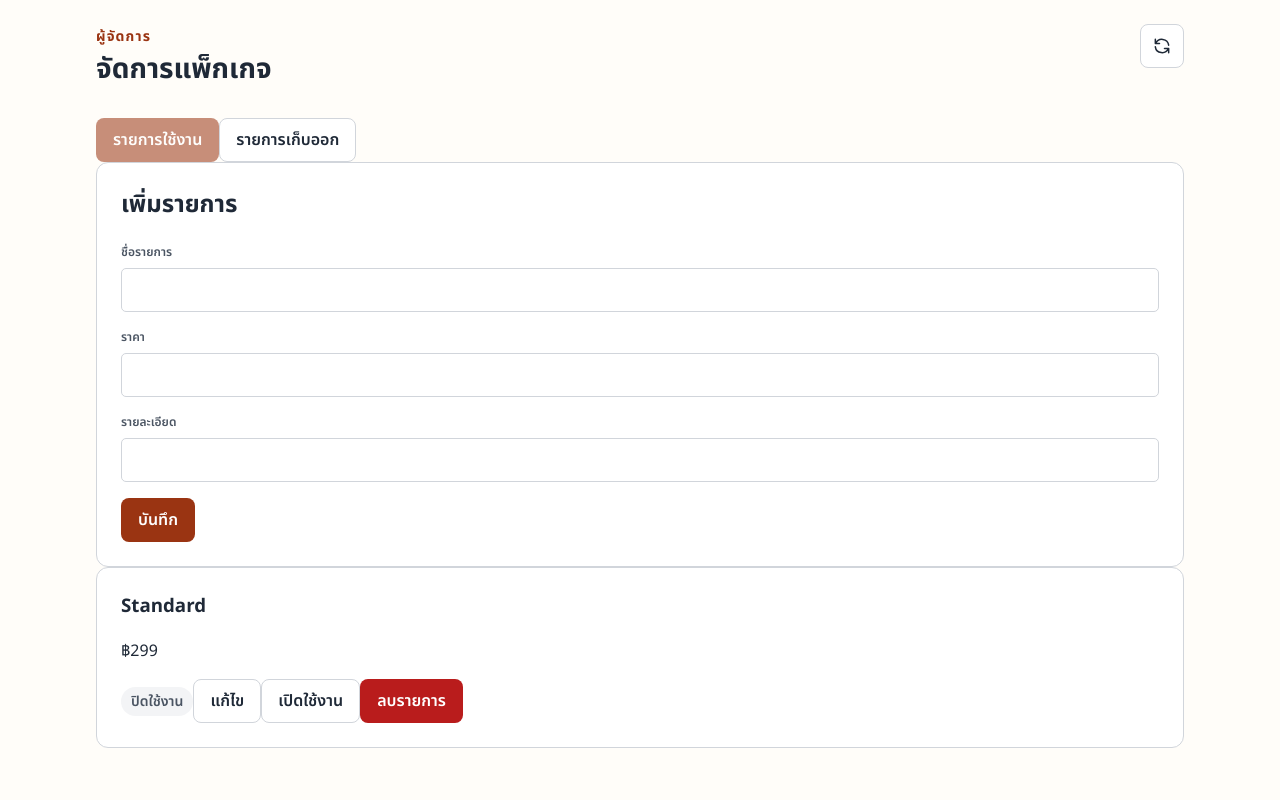
it: requires confirmation to reactivate a package and prevents duplicate actions
The image size is (1280, 800).
Expected: the heading "Standard" is shown, x1=121 y1=592 x2=206 y2=620
Click the button "เปิดใช้งาน" at (311, 701), box x1=261 y1=679 x2=360 y2=723
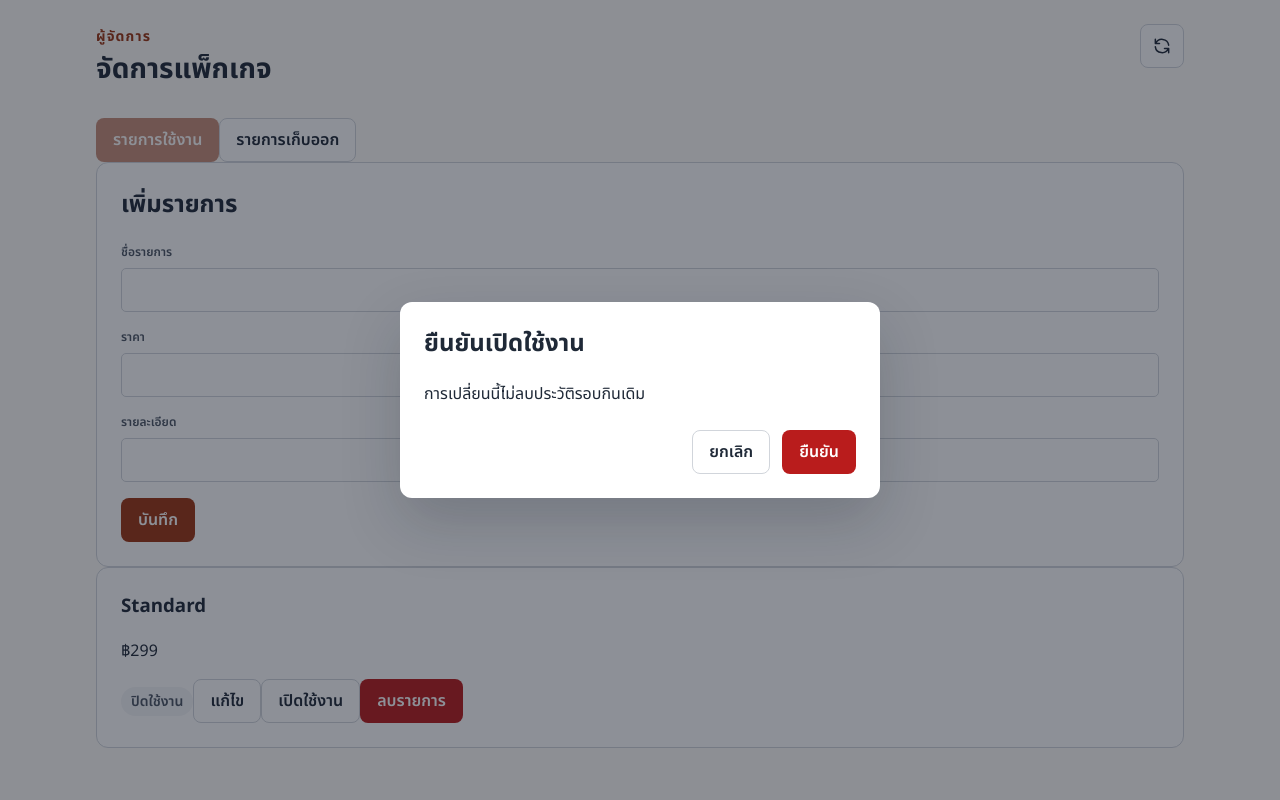
Click the button "ยืนยัน" at (819, 452), box x1=782 y1=430 x2=856 y2=474
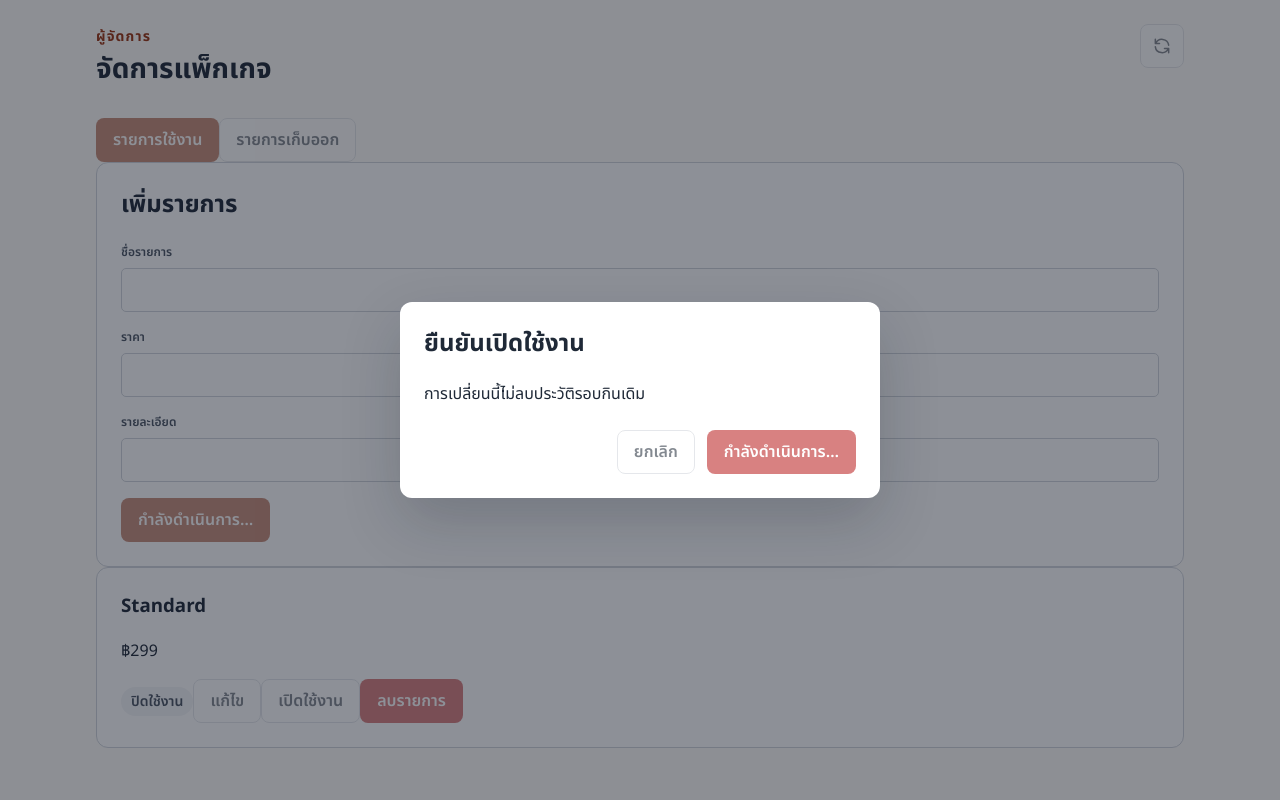
Click the button named "ยืนยัน" at (781, 452), box x1=707 y1=430 x2=856 y2=474
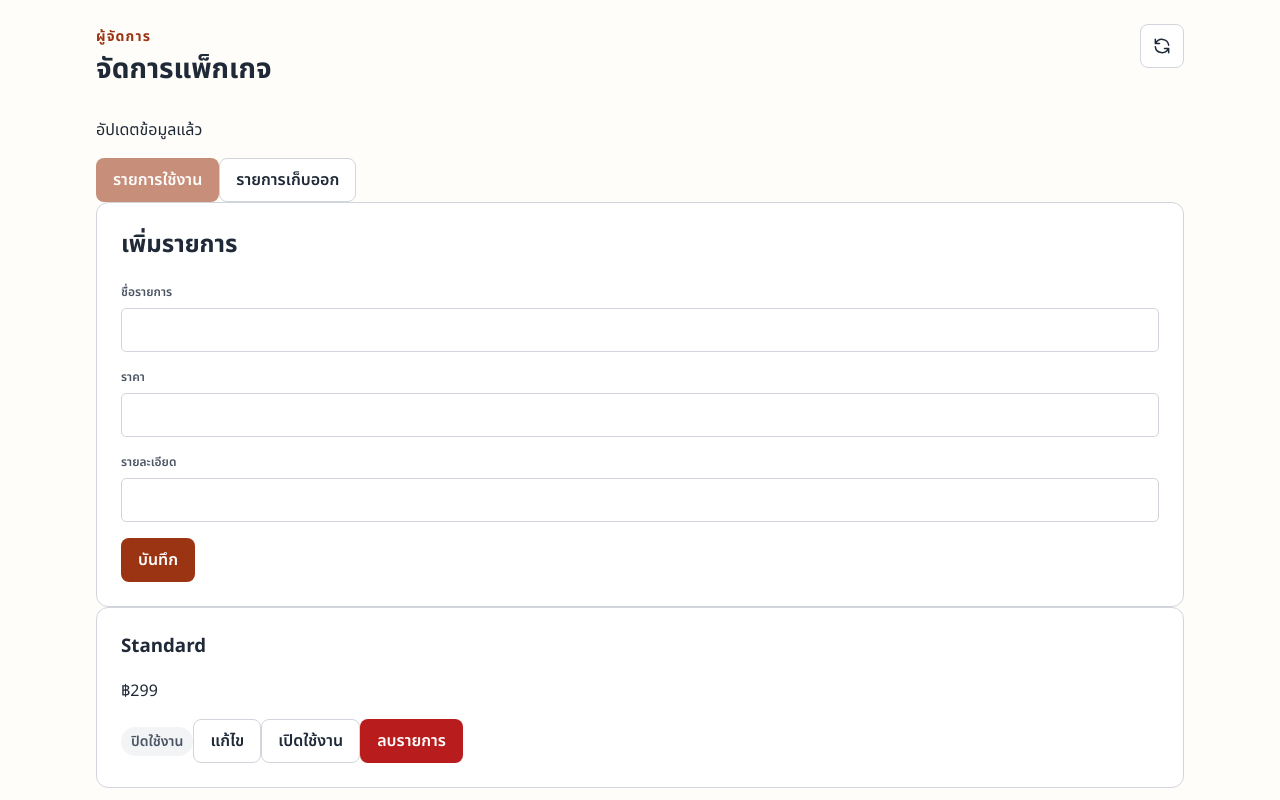
Expected: the text "อัปเดตข้อมูลแล้ว" is shown, x1=96 y1=118 x2=202 y2=142
